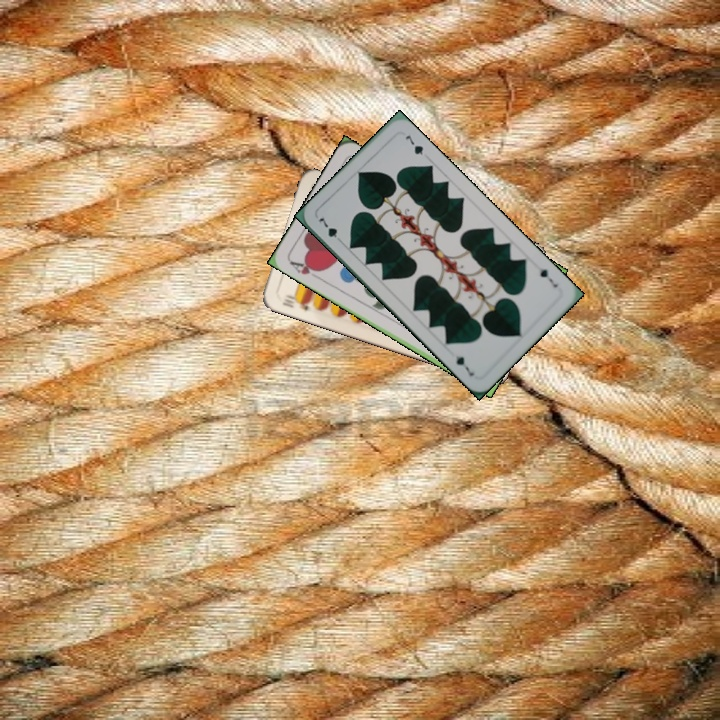E10: (278, 290, 312, 313)
G7: (314, 214, 346, 246), (536, 265, 561, 290)
HA: (286, 256, 323, 277)
